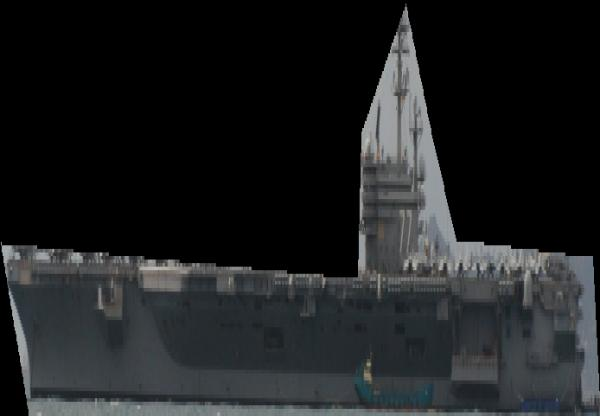Aircraft Carrier: (1, 3, 600, 416)
